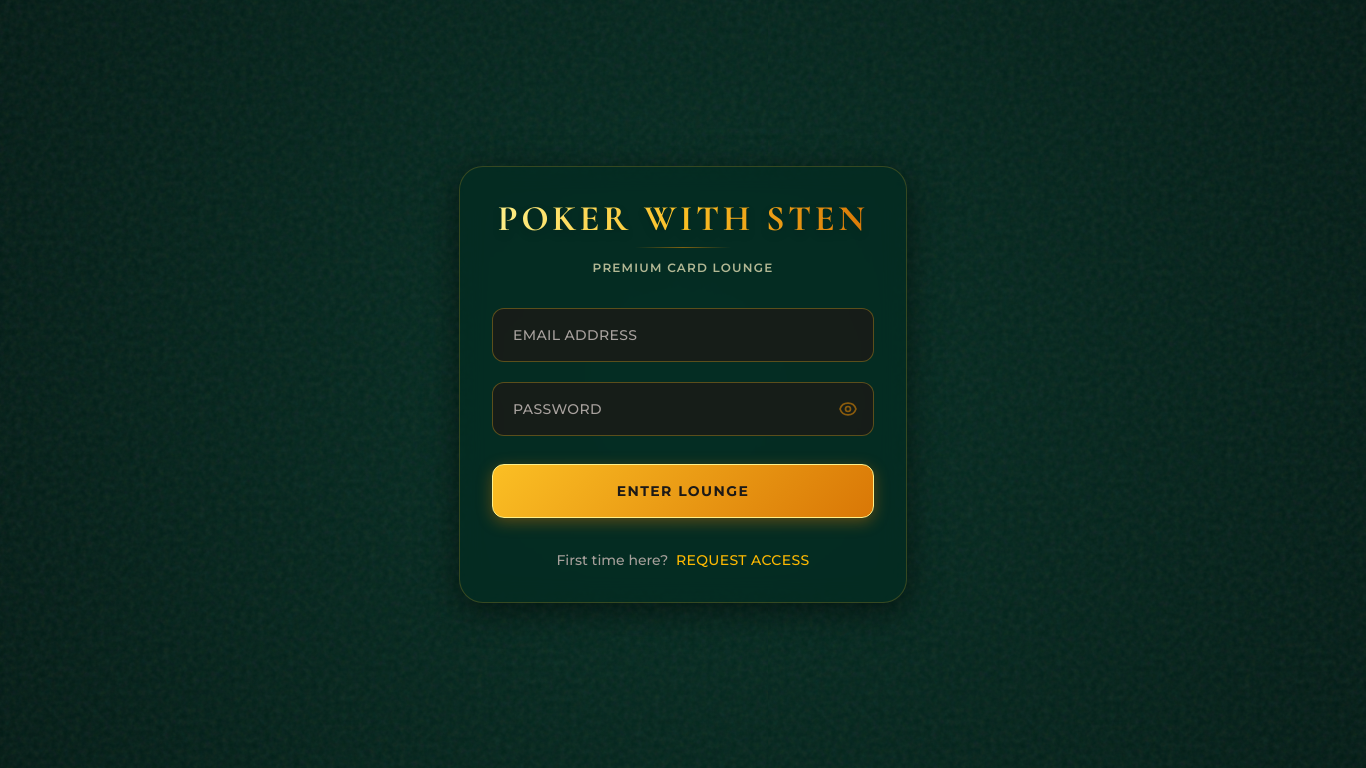
it: Login Component › displays a fallback error message when login fails without a specific message
Type "test@example.com" into the field with placeholder "EMAIL ADDRESS" at (683, 334), box [492,308,874,362]
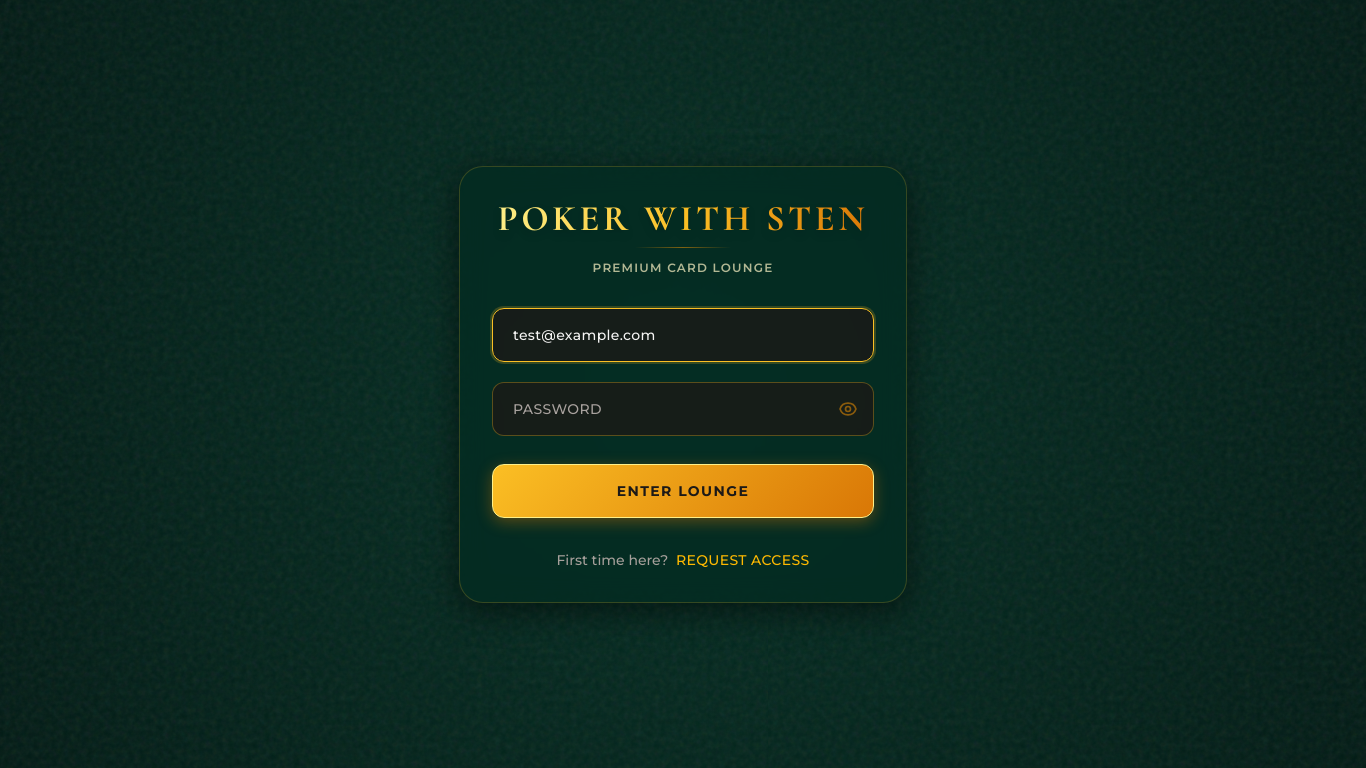
Type "wrongpassword" into the password field with placeholder "PASSWORD" at (683, 408), box [492,382,874,436]
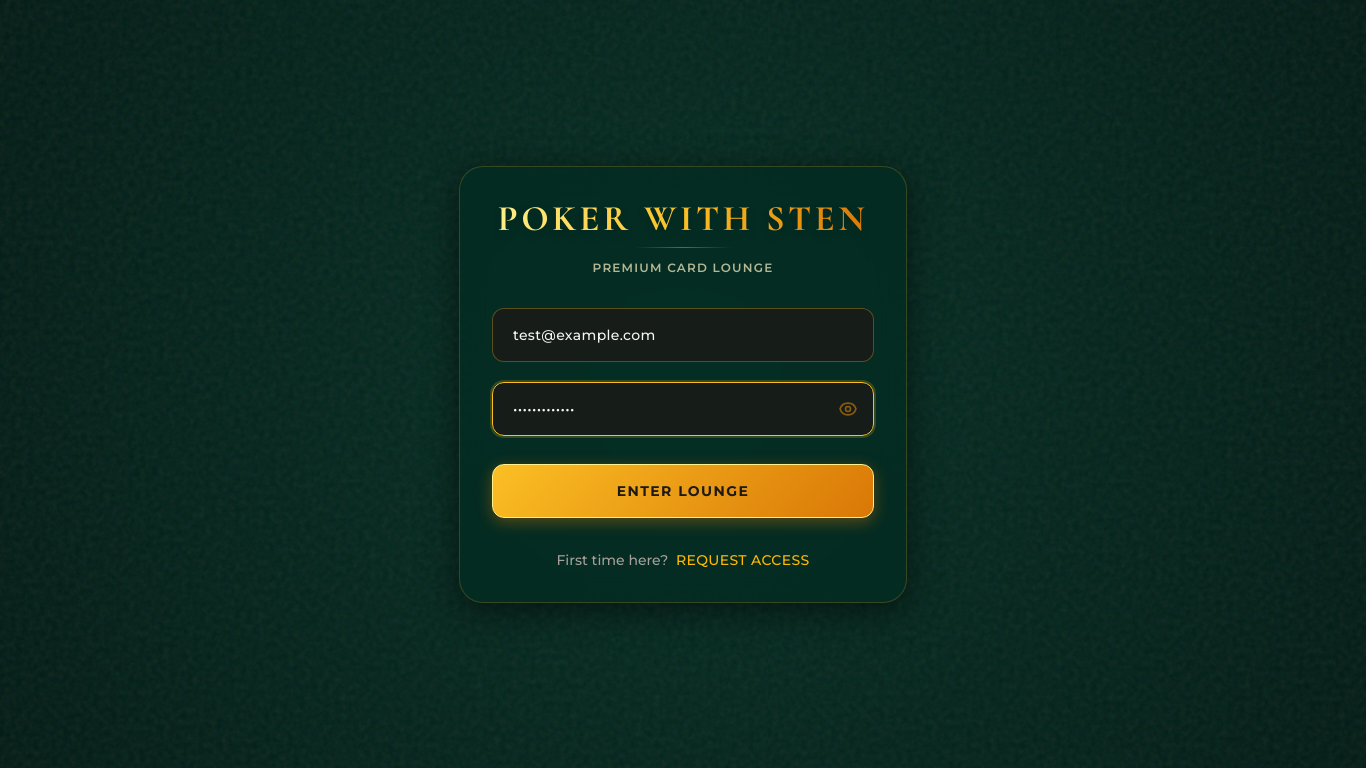
# Submit form
Click the button "Enter Lounge" at (683, 490), box [492,464,874,518]
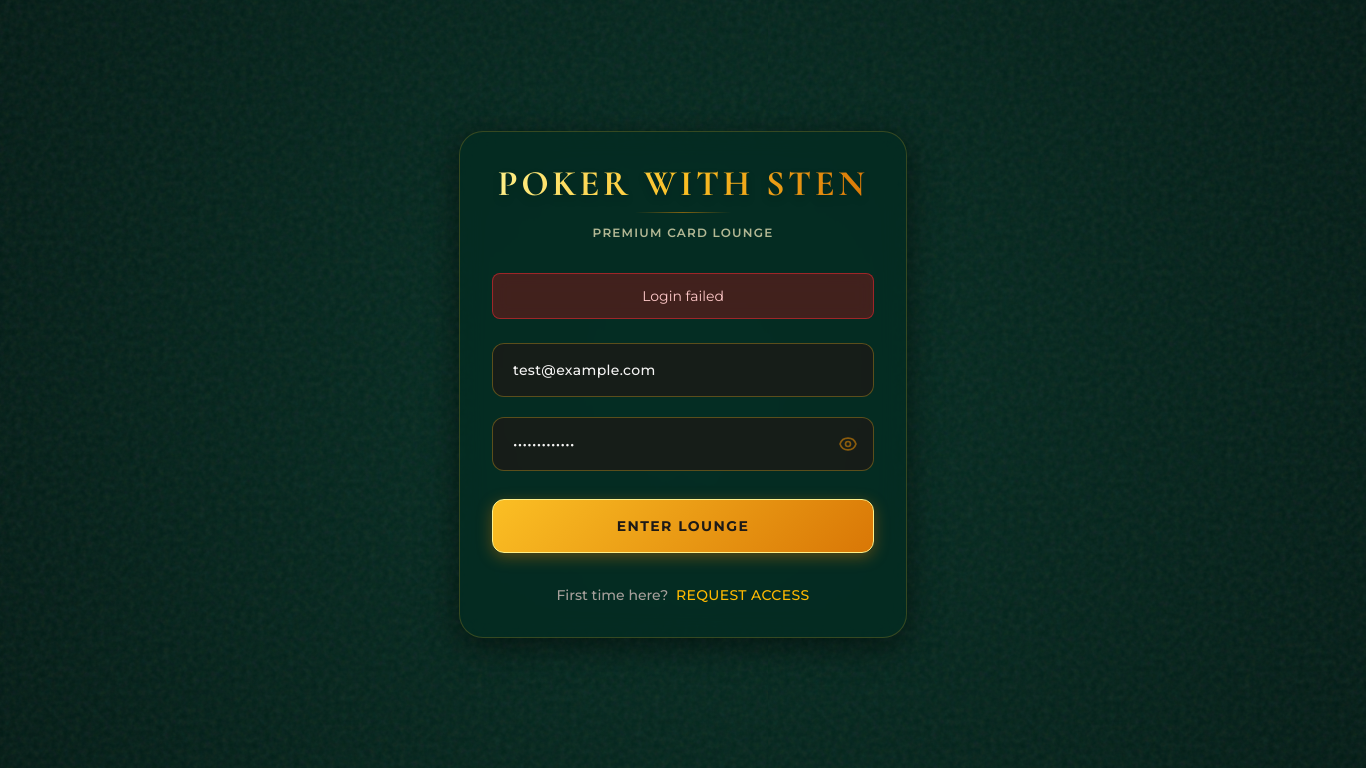
Expected: the text "Login failed" is shown, [492,272,874,318]
